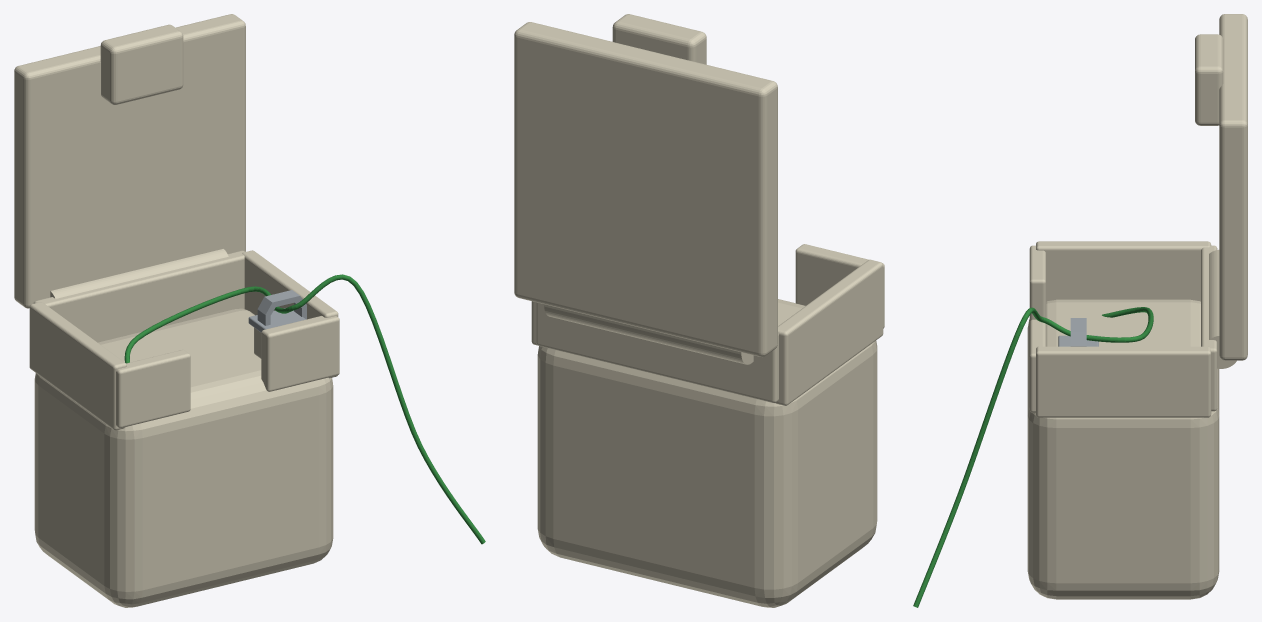
Rendered from full.glb.
3 views of the same model, side by side, from view 1: azimuth 30°, elevation 25°; view 2: azimuth 150°, elevation 25°; view 3: azimuth 270°, elevation 25° (orthographic). The views are drawn at different scales.
Parts seen in each view (by area): view 1: Rounded dispenser body, Upright opened lid, Recess rear wall, Recess sidewall -1, Lid central latch tongue, Notched front rim 1, Notched front rim -1, Single visible floss strand, Recess sidewall 1, Broad hinge barrel, Raised curved cutter tab; view 2: Upright opened lid, Rounded dispenser body, Recess sidewall -1, Recess rear wall, Lid central latch tongue, Notched front rim -1, Broad hinge barrel; view 3: Rounded dispenser body, Recess sidewall 1, Upright opened lid, Recess sidewall -1, Single visible floss strand, Lid central latch tongue, Recess rear wall, Broad hinge barrel, Notched front rim -1, Notched front rim 1, Raised curved cutter tab.
Boxes of the visible parts, x1,y1,x2,y2 form: Rounded dispenser body: (34, 308, 333, 607); Upright opened lid: (14, 14, 245, 308); Recess rear wall: (33, 250, 244, 342); Recess sidewall -1: (29, 302, 126, 430); Lid central latch tongue: (100, 24, 183, 104); Notched front rim 1: (261, 316, 339, 391); Notched front rim -1: (116, 349, 190, 428); Single visible floss strand: (124, 274, 485, 544); Recess sidewall 1: (242, 250, 338, 378); Broad hinge barrel: (50, 249, 228, 298); Raised curved cutter tab: (257, 290, 306, 325); Upright opened lid: (514, 22, 777, 356); Rounded dispenser body: (537, 299, 877, 607); Recess sidewall -1: (775, 259, 883, 405); Recess rear wall: (536, 302, 778, 403); Lid central latch tongue: (612, 14, 706, 64); Notched front rim -1: (795, 244, 884, 328); Broad hinge barrel: (544, 304, 753, 364); Rounded dispenser body: (1027, 299, 1219, 599); Recess sidewall 1: (1036, 346, 1211, 417); Upright opened lid: (1219, 14, 1247, 360); Recess sidewall -1: (1036, 241, 1211, 301); Single visible floss strand: (913, 307, 1153, 607); Lid central latch tongue: (1195, 34, 1223, 125); Recess rear wall: (1201, 245, 1217, 411); Broad hinge barrel: (1209, 249, 1236, 368); Notched front rim -1: (1029, 245, 1045, 321); Notched front rim 1: (1029, 319, 1045, 412); Raised curved cutter tab: (1070, 318, 1086, 346).
Bounding box in the file's own units: 0.0901 × 0.136 × 0.0821.
